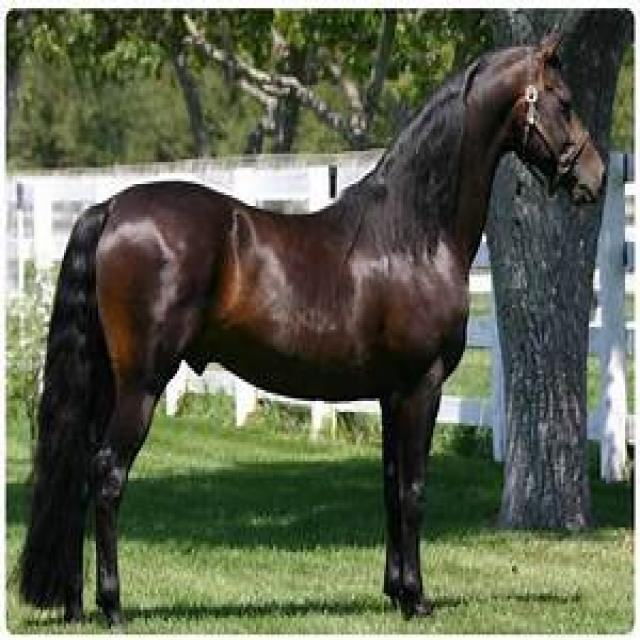horse: (13, 33, 606, 629)
